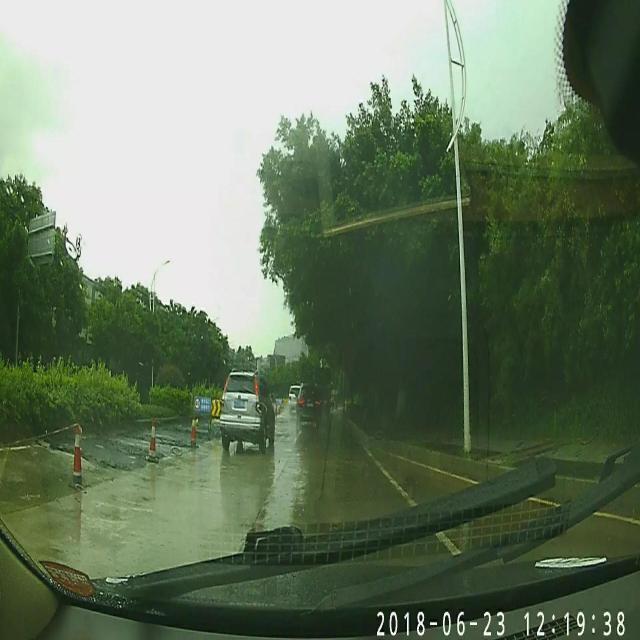car: (217, 369, 276, 449), (294, 380, 324, 427), (286, 384, 302, 410)
